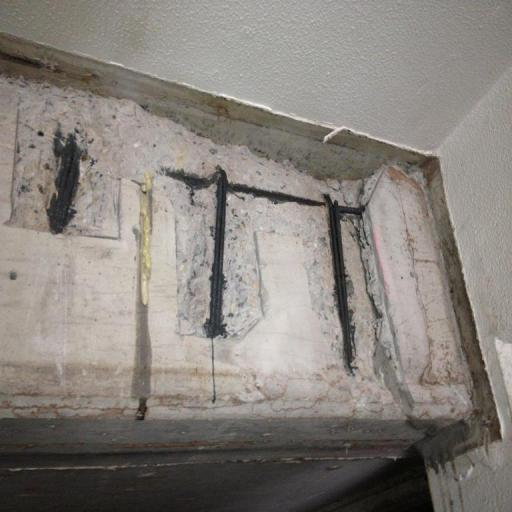spalling: (160, 180, 379, 387), (20, 89, 121, 234)
